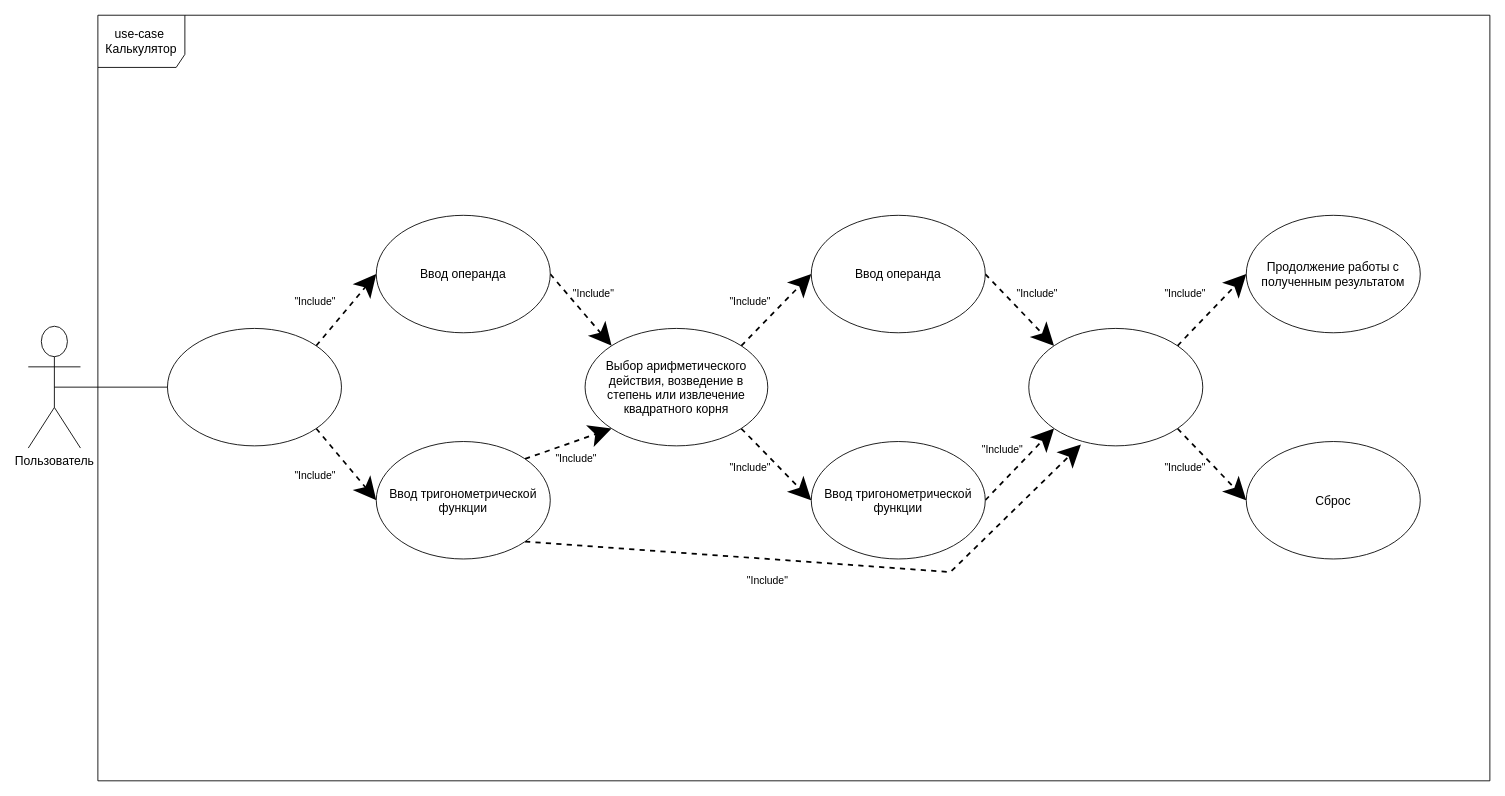
This 1505x796 diagram has some shape labels left out. The centre of each missing label's shape, as x and y in pixels:
"Ввод данных через графический интерфейс" belongs at (x=254, y=387).
"Получение результата" belongs at (x=1115, y=387).
